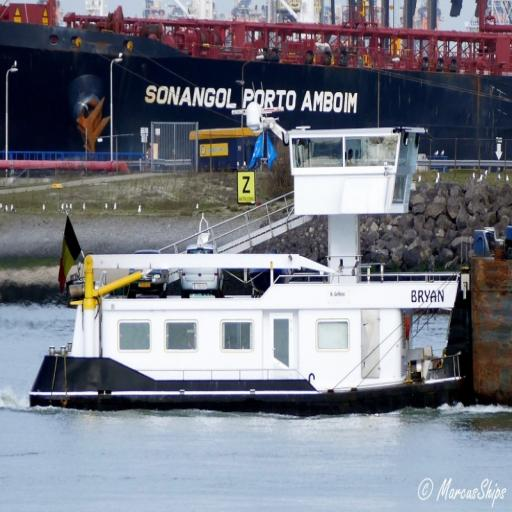tugboat: (28, 125, 478, 424)
